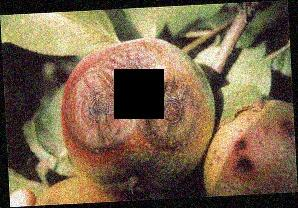rotten apple: (62, 39, 216, 195), (202, 98, 295, 195)
